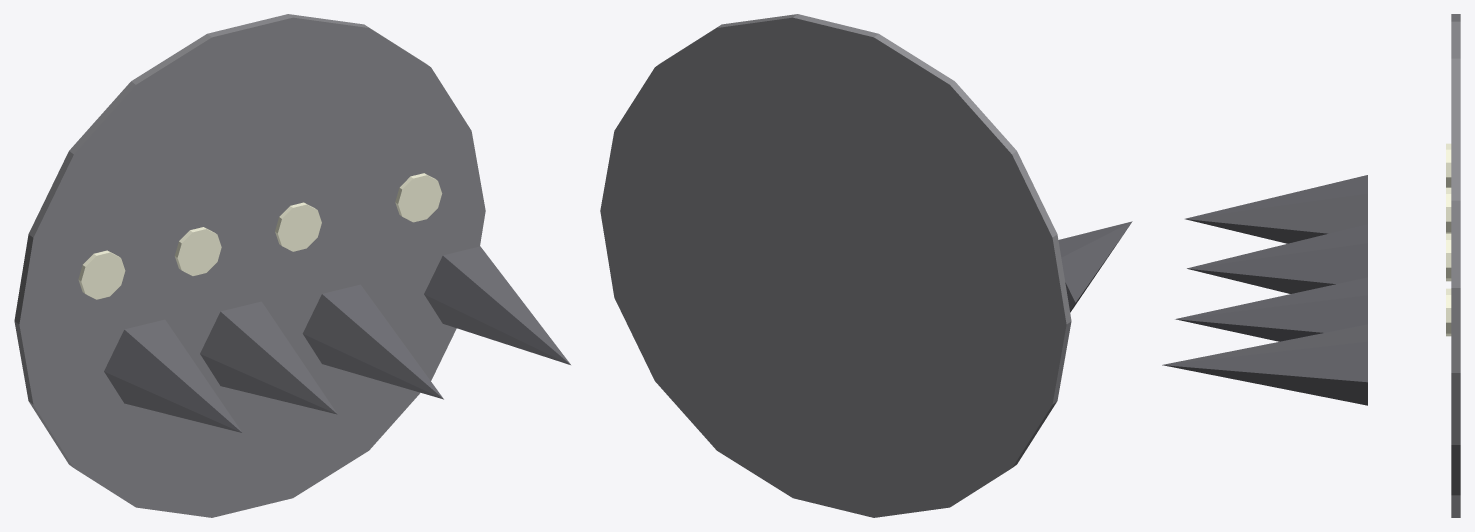
Rendered from 04_event_hazard_cluster.glb.
3 views of the same model, side by side, from view 1: azimuth 30°, elevation 25°; view 2: azimuth 150°, elevation 25°; view 3: azimuth 270°, elevation 25° (orthographic). The views are drawn at different scales.
Parts seen in each view (by area): view 1: scatter_base, basalt_shard_1, basalt_shard_0, basalt_shard_3, basalt_shard_2, lava_glow_3, lava_glow_2, lava_glow_1, lava_glow_0; view 2: scatter_base, basalt_shard_0; view 3: basalt_shard_3, basalt_shard_1, basalt_shard_0, basalt_shard_2, scatter_base.
Boxes of the visible parts, x1,y1,x2,y2 form: scatter_base: [14, 14, 485, 517]; basalt_shard_1: [200, 301, 337, 414]; basalt_shard_0: [104, 319, 242, 432]; basalt_shard_3: [424, 246, 570, 364]; basalt_shard_2: [302, 284, 443, 399]; lava_glow_3: [395, 173, 442, 222]; lava_glow_2: [275, 202, 321, 251]; lava_glow_1: [175, 227, 221, 275]; lava_glow_0: [78, 250, 125, 299]; scatter_base: [600, 14, 1071, 517]; basalt_shard_0: [1058, 221, 1132, 312]; basalt_shard_3: [1162, 324, 1367, 405]; basalt_shard_1: [1187, 224, 1367, 293]; basalt_shard_0: [1185, 175, 1367, 243]; basalt_shard_2: [1175, 277, 1367, 341]; scatter_base: [1451, 14, 1460, 517].
Size of the model in its own units: 1.9 by 1.87 by 1.12.
